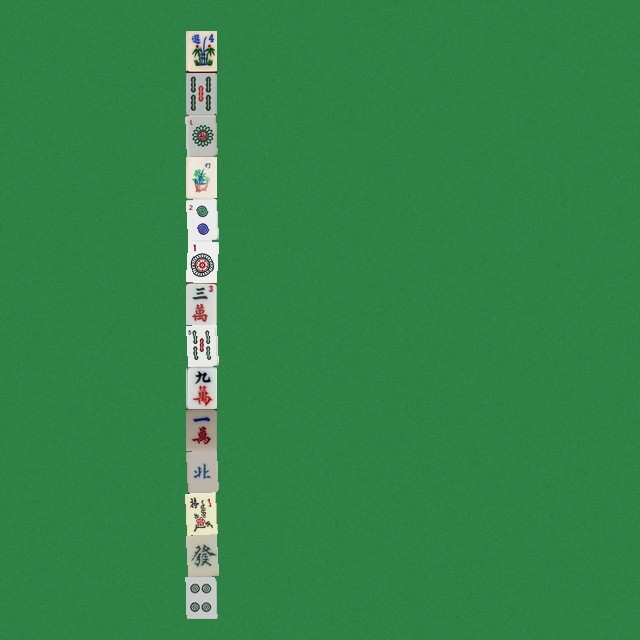tile: (185, 30, 216, 72), (185, 72, 216, 114), (185, 114, 216, 156), (185, 156, 216, 198), (185, 198, 216, 240), (185, 240, 216, 282), (185, 282, 216, 324), (185, 324, 216, 366), (185, 366, 216, 408), (185, 408, 216, 450), (185, 450, 216, 492), (185, 492, 216, 534), (185, 534, 216, 576), (185, 576, 216, 618)
